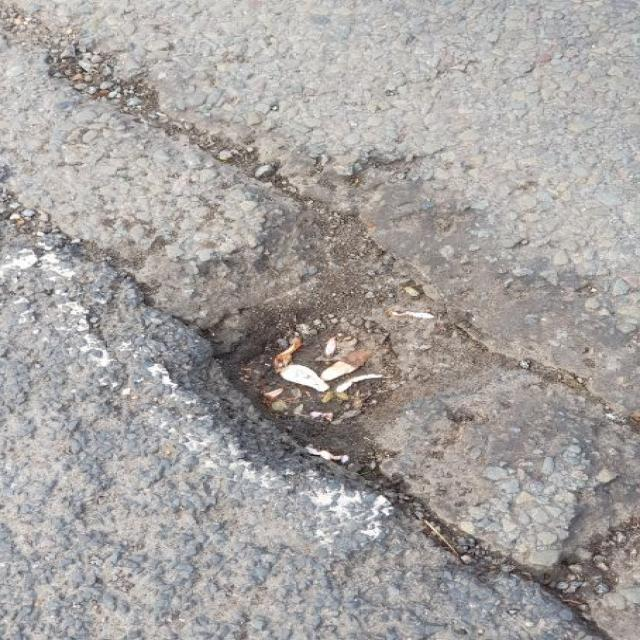pothole: (92, 141, 640, 614)
